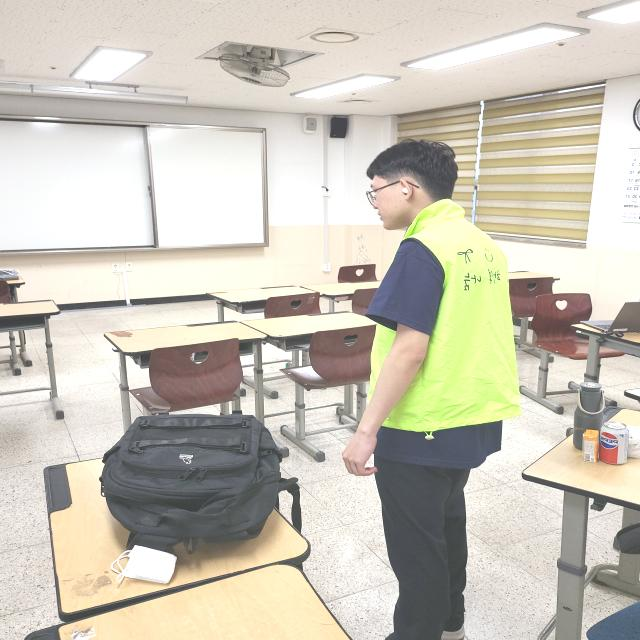weston_spy: (320, 185, 542, 462)
